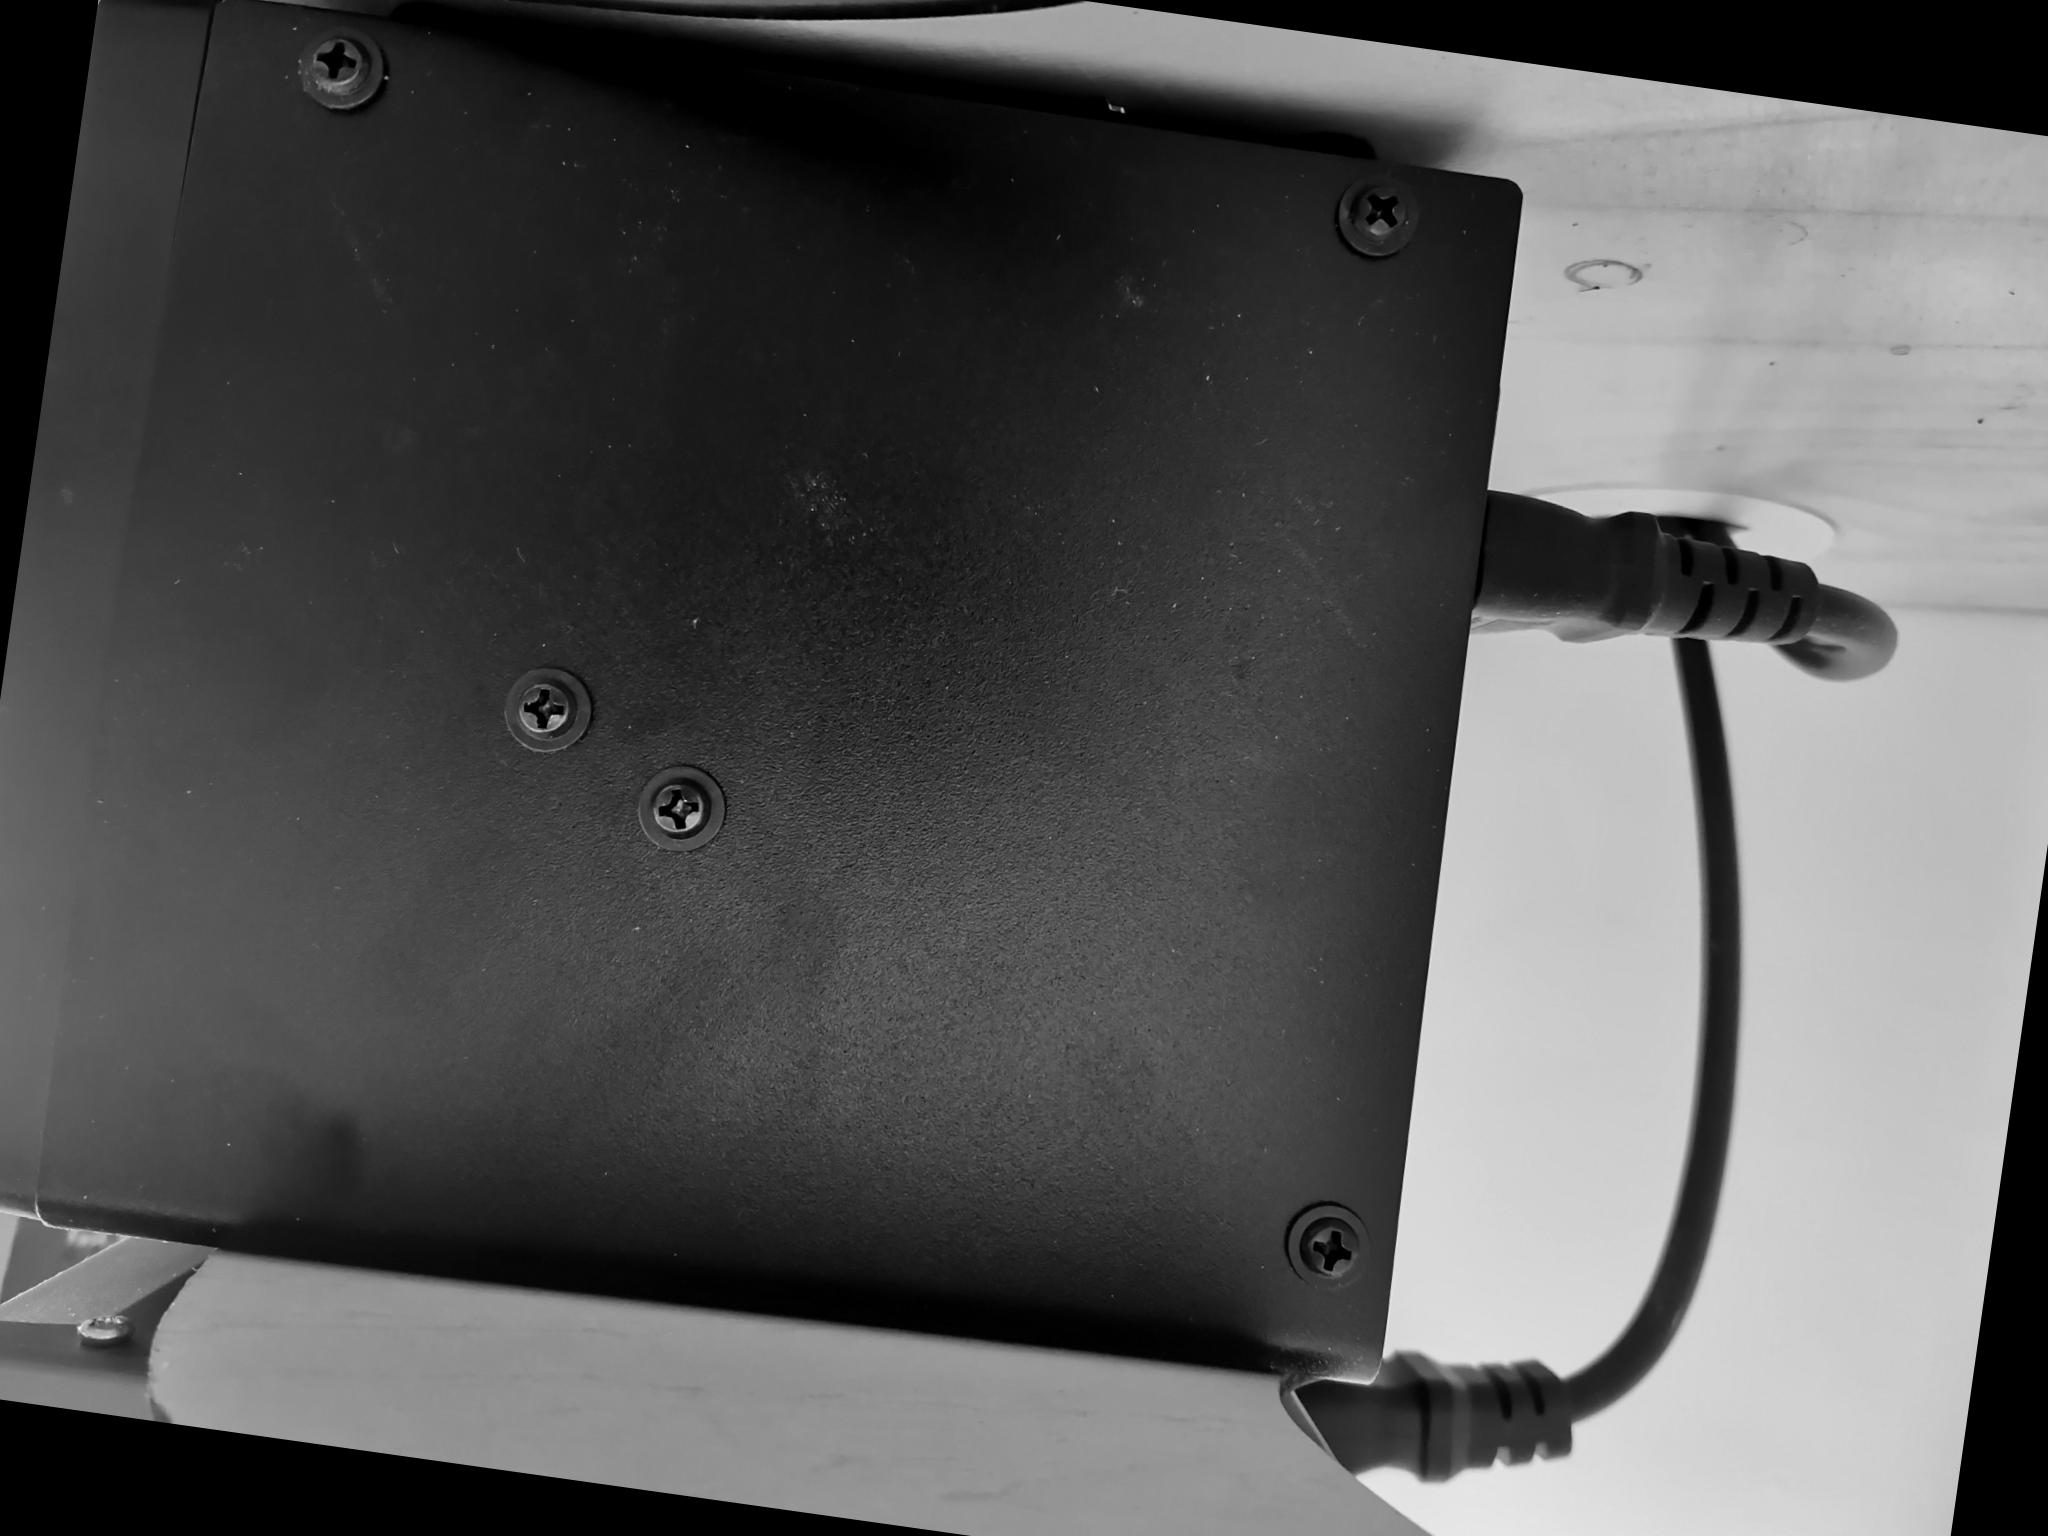philips-PZ: (493, 653, 603, 763), (629, 757, 735, 863), (1274, 1196, 1380, 1294), (289, 18, 390, 119), (1329, 160, 1430, 258)
